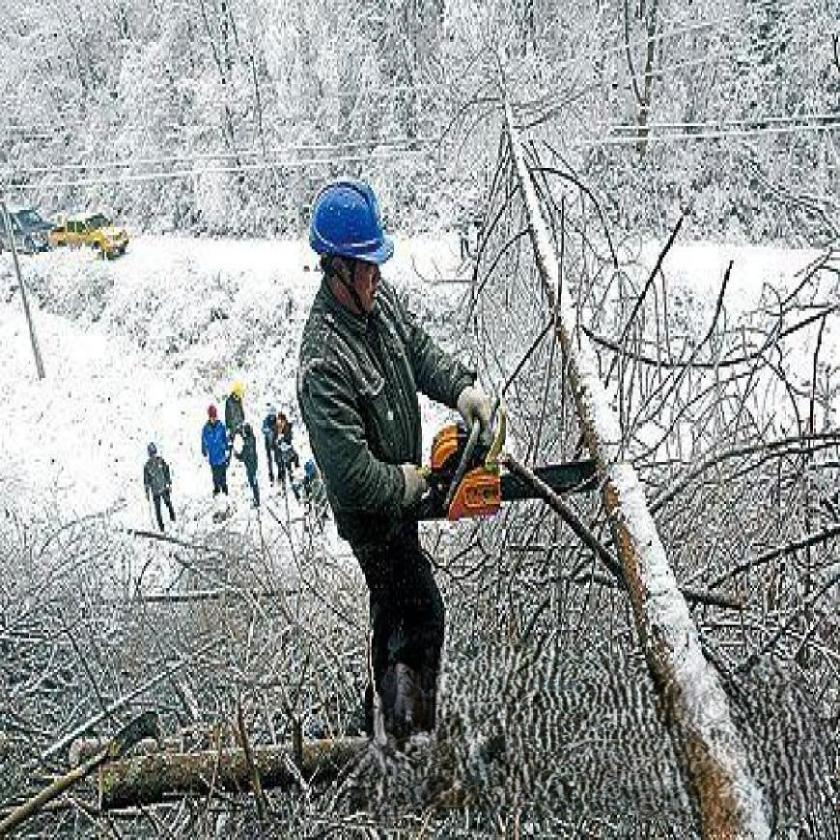Con_casco: (297, 171, 400, 322)
